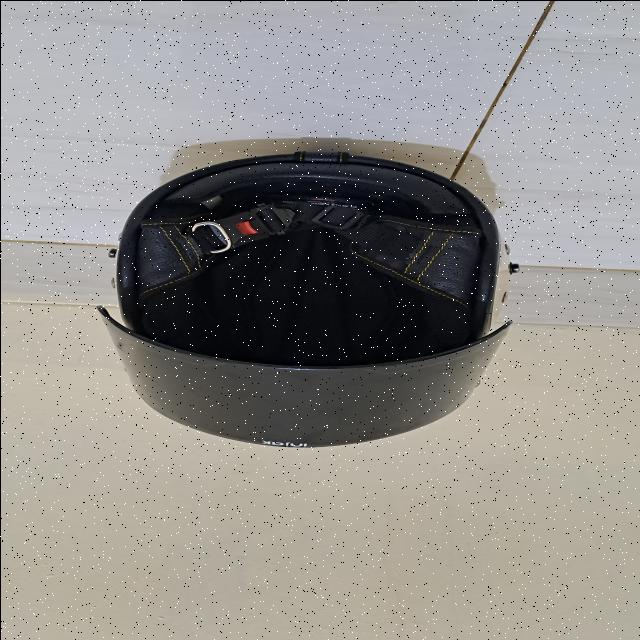Helmet: (95, 148, 511, 445)
